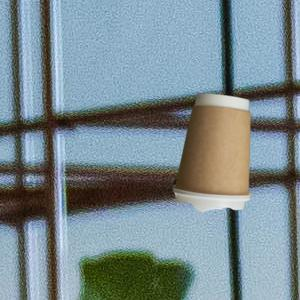cup: (174, 92, 254, 209)
